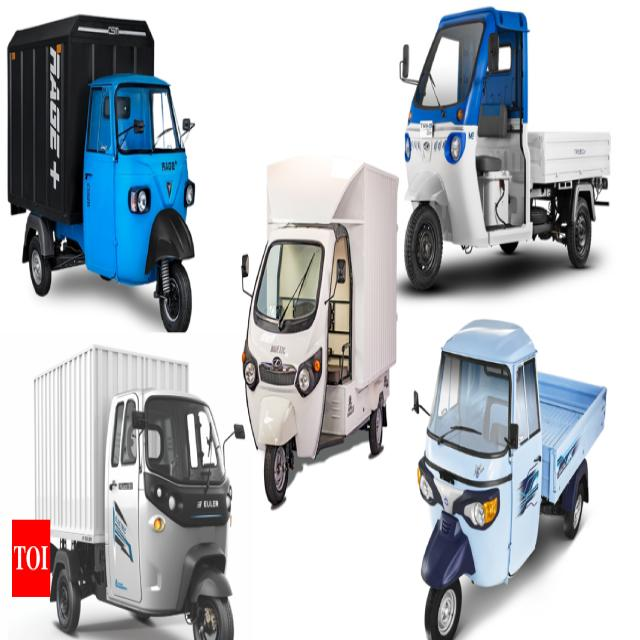autorickshaw: (418, 321, 606, 639), (8, 14, 195, 331), (35, 346, 234, 639), (405, 7, 609, 289), (241, 157, 397, 503)
